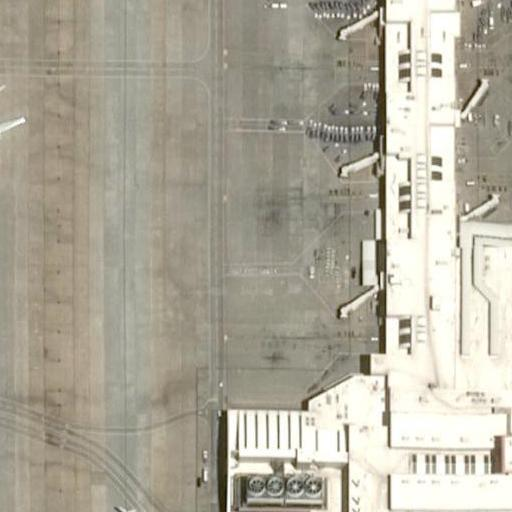Aircraft: (0, 72, 25, 168), (99, 501, 150, 512)
